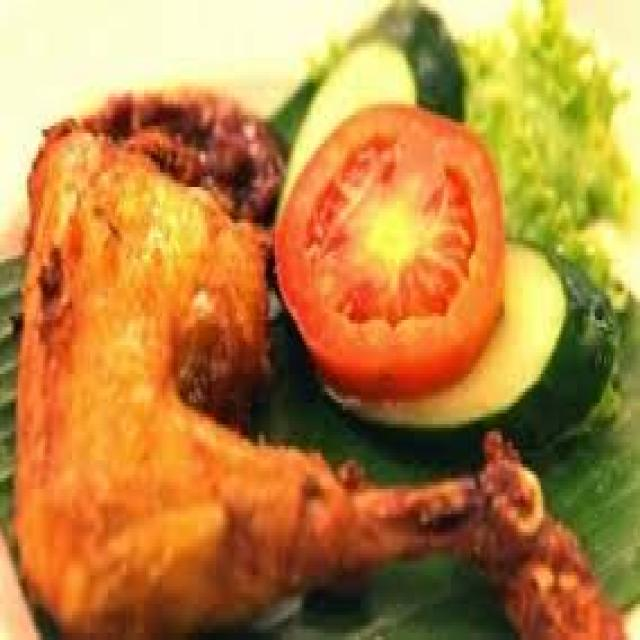Frango: (8, 82, 626, 640)
